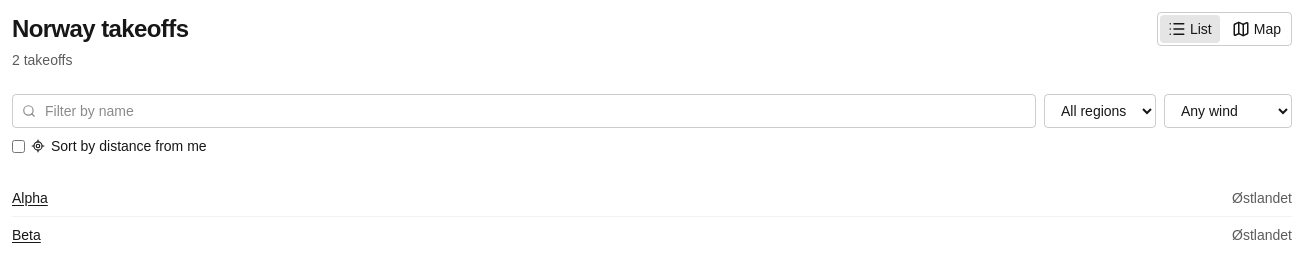
Test case: TakeoffDirectory — wind filter › names both the query and the wind direction when their combination has zero results
Expected: the link "Alpha" is shown, [12,188,48,208]
Step 1. Type "Alpha" into the field named "takeoff name" → point(524, 111), box [12,94,1036,128]
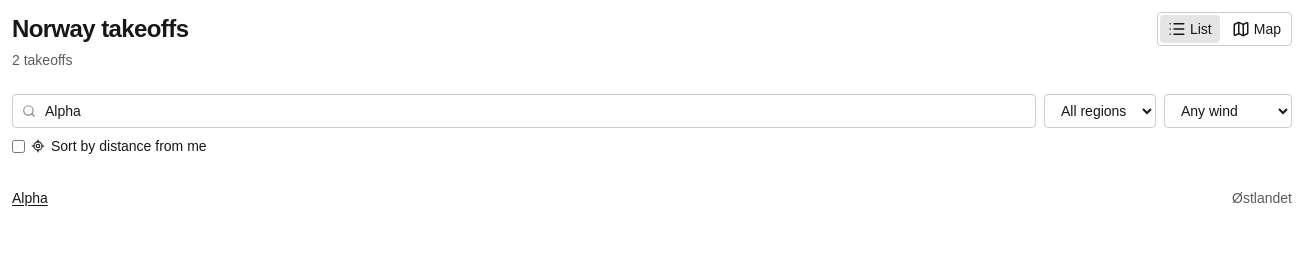
Step 2. Select "Works in N" in the dropdown named "wind direction" → point(1228, 111), box [1164,94,1292,128]
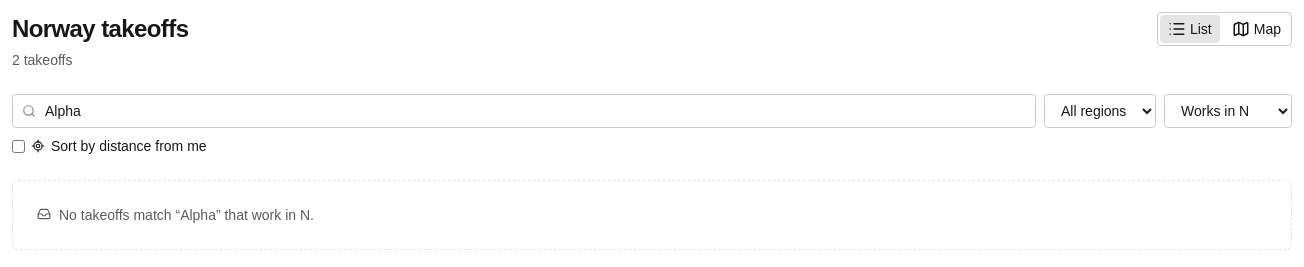
Expected: the text "No takeoffs match “Alpha” that work in N." is shown, [59,205,314,225]
